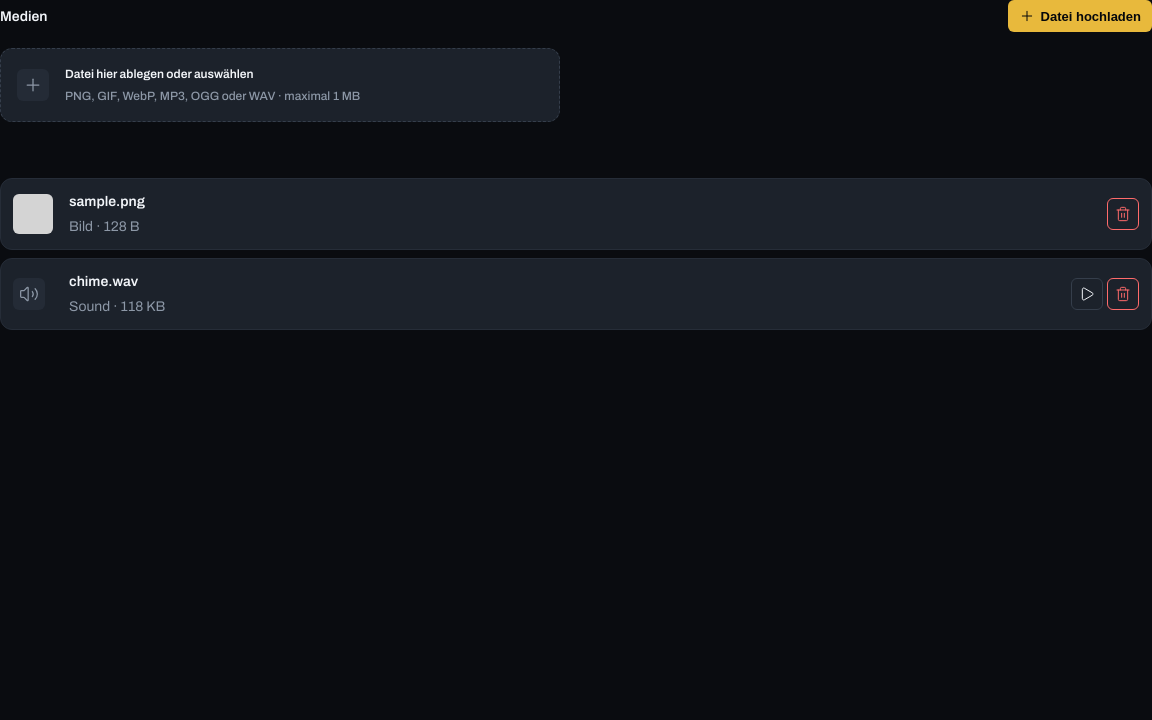
Scenario: overlay alert media panel › shows the referencing reward names when deletion is blocked
Expected: the text "sample.png" is shown, [69,194,145,209]
Click the button named "Löschen: sample.png" at (1123, 214), box [1107,198,1139,230]
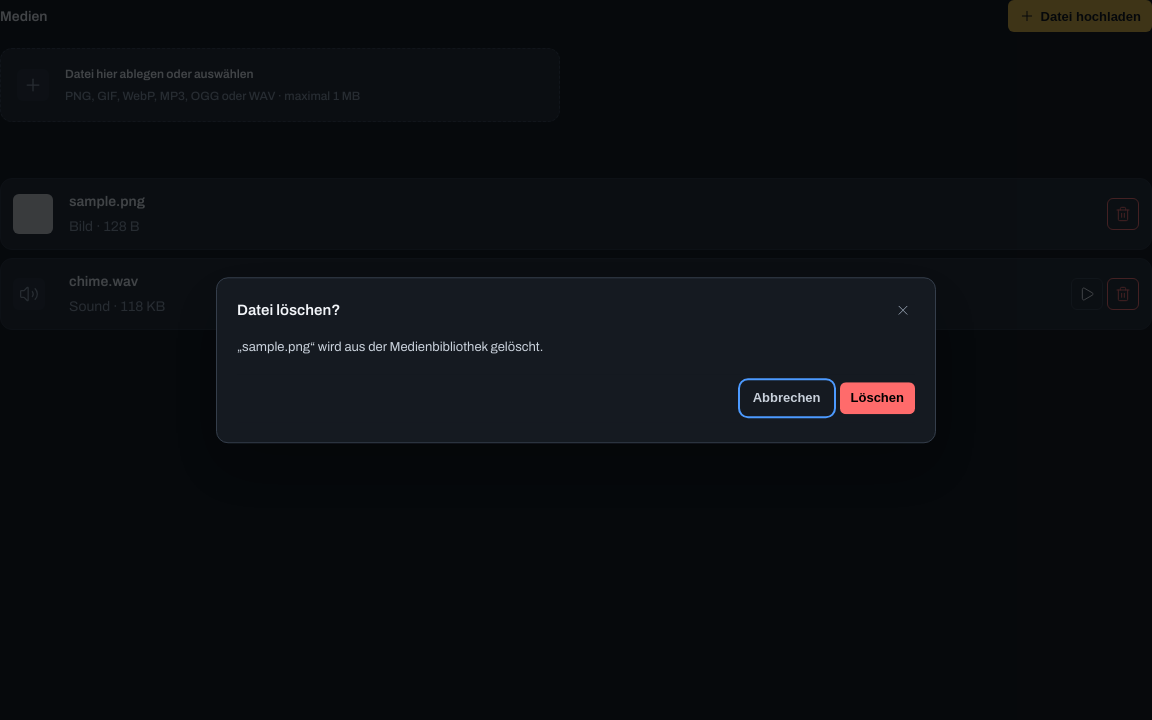
Click the button "Löschen" at (877, 398), box [840,382,915,414]
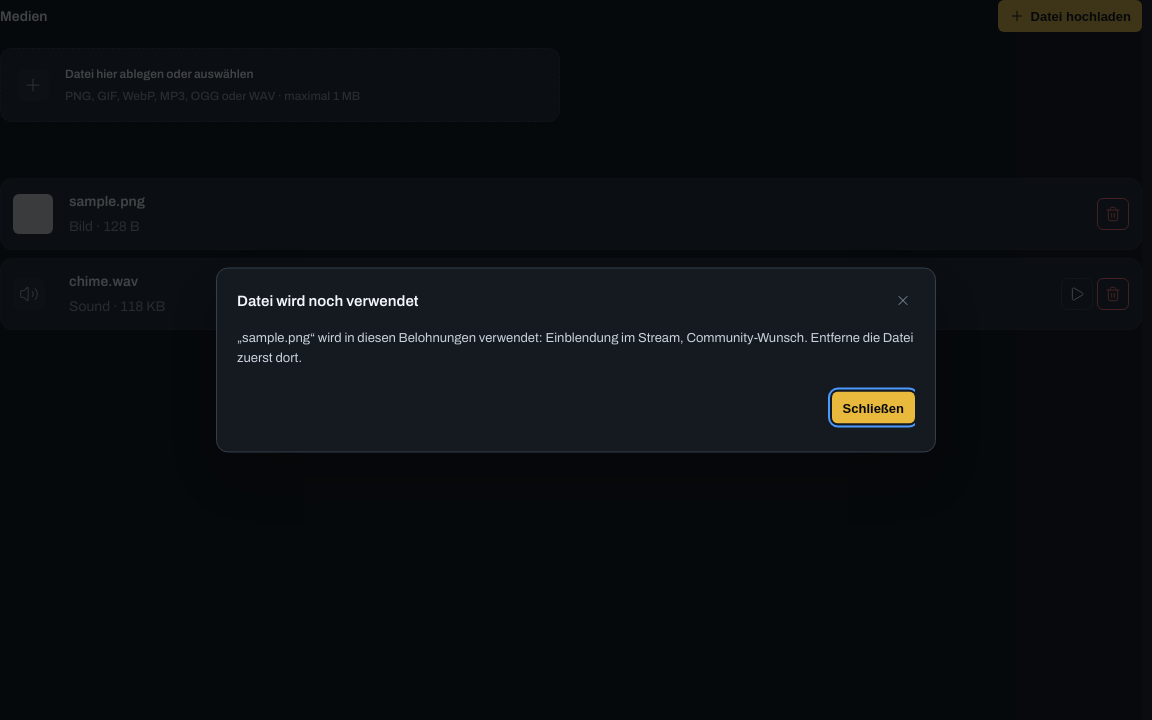
Expected: the button named "Schließen" is shown, [887,284,919,316]
Expected: the text "„sample.png“ wird in diesen Belohnungen verwendet: Einblendung im Stream, Community-Wunsch. Entferne die Datei zuerst do" is shown, [237,330,913,364]
Expected: the button "Abbrechen" is gone
